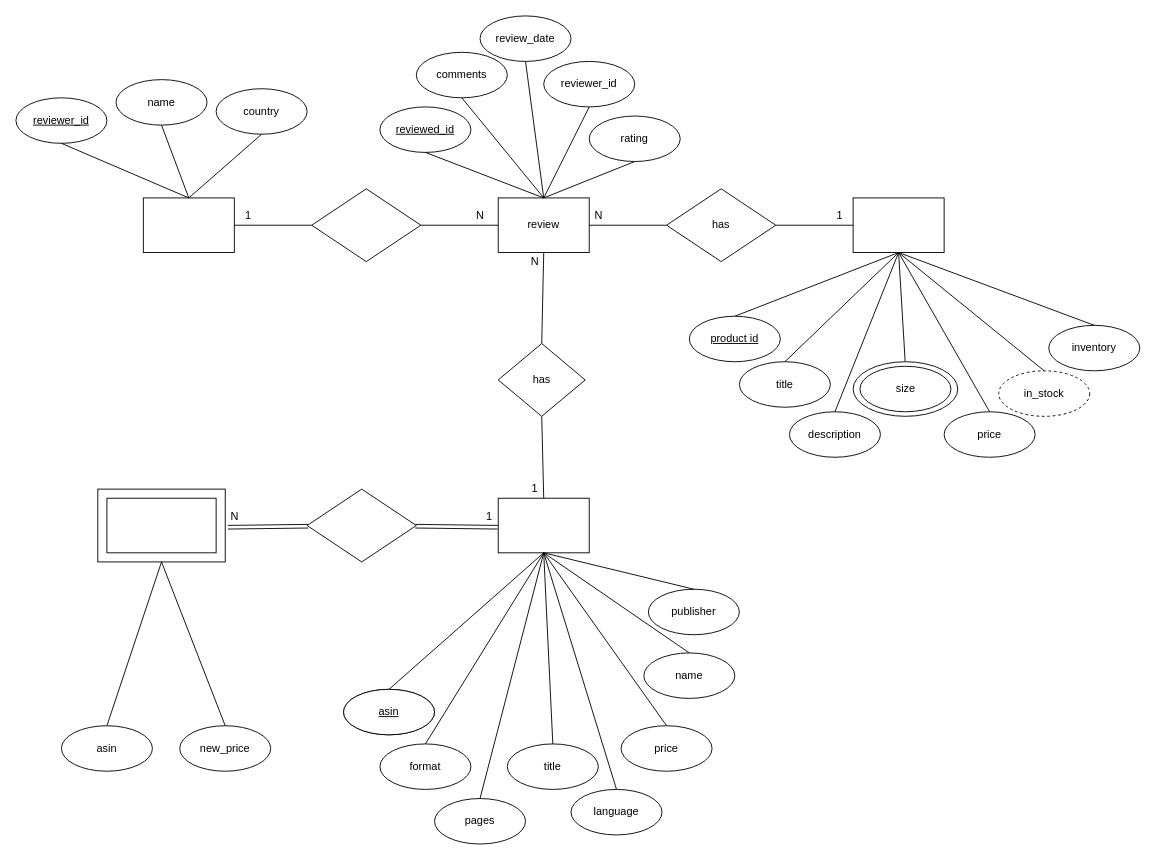
Image size: 1156x860. Some labels were removed from this diagram. Here are the shapes that lost their labels. From the top down, the centre of each, then its label:
At [188,225]: "reviewer".
At [366,225]: "create".
At [898,225]: "reading supplies (product)".
At [161,525]: "edition collection".
At [361,525]: "relate".
At [543,525]: "edition".
